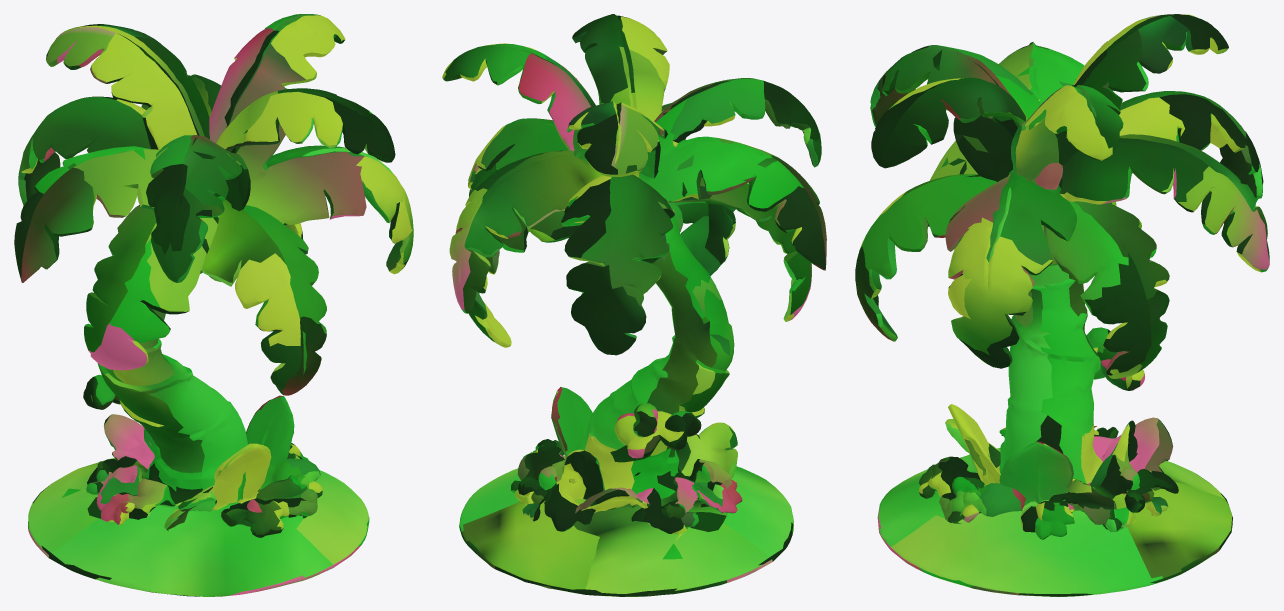
Rendered from tree2.glb.
3 renders of one model, left to right at view 1: azimuth 30°, elevation 25°; view 2: azimuth 150°, elevation 25°; view 3: azimuth 270°, elevation 25°, orthographic. The views are drawn at different scales.
Size of the model in its own units: 0.829 by 0.9999 by 0.7736.
Materials: 1 (1 with a texture image).
